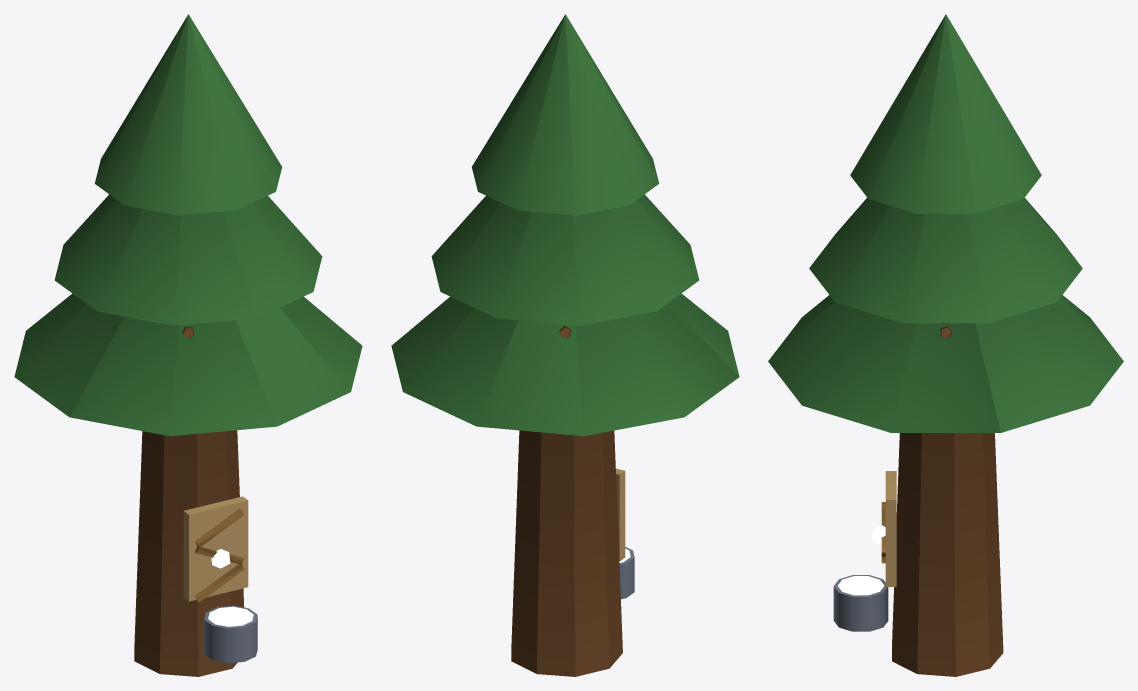
File: n_src_forst.glb
3 views of the same model, side by side, from view 1: azimuth 30°, elevation 25°; view 2: azimuth 150°, elevation 25°; view 3: azimuth 270°, elevation 25° (orthographic).
Visible parts, largest first — view 1: body, resin_glow; view 2: body; view 3: body, resin_glow.
Boxes of the visible parts, left/top/right/bottom form: body: left=14, top=14, right=362, bottom=676; resin_glow: left=208, top=549, right=253, bottom=626; body: left=391, top=14, right=739, bottom=676; body: left=768, top=14, right=1123, bottom=676; resin_glow: left=838, top=525, right=885, bottom=595.
Bounding box in the file's own units: 2.47 × 5.15 × 2.6.
